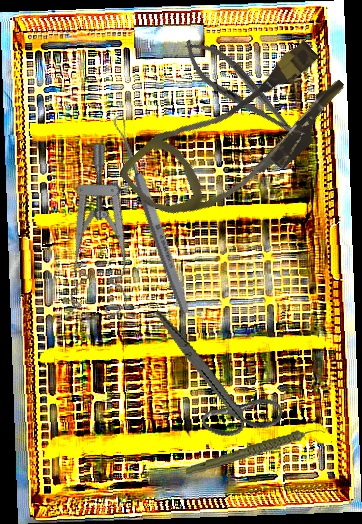Cannula: (116, 19, 359, 253)
Handpiece: (183, 427, 328, 477)
Iris Scissors: (127, 309, 301, 452)
Needle Holder: (174, 29, 313, 155)
Speculum: (31, 139, 181, 327)
Surgical Spoon: (111, 113, 193, 317)
